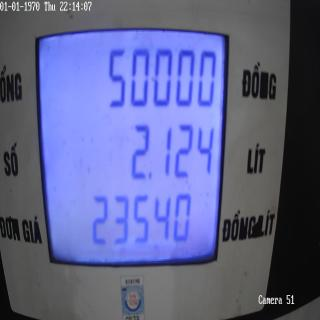screen: (32, 19, 234, 275)
